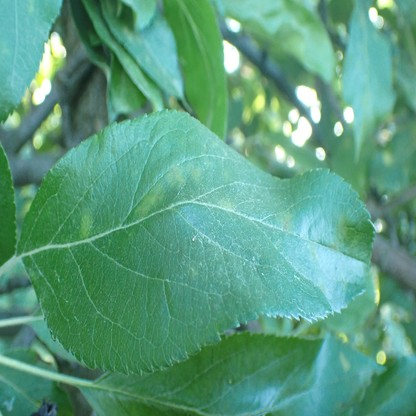scab: (135, 181, 165, 217), (329, 211, 348, 249), (166, 163, 184, 188), (81, 205, 91, 243), (274, 211, 295, 229), (339, 350, 350, 373), (191, 166, 202, 180), (219, 199, 232, 209), (320, 284, 327, 295), (309, 246, 315, 258)
